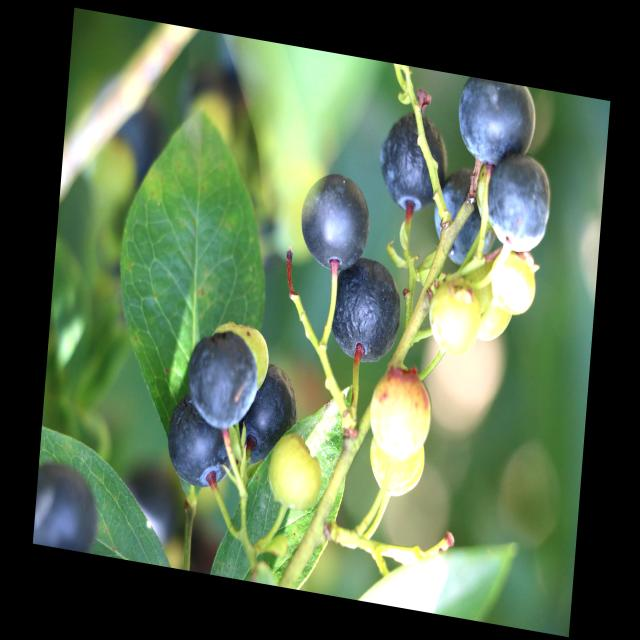blueberry: (322, 249, 404, 371), (296, 166, 377, 280), (481, 143, 557, 260), (451, 74, 544, 169), (375, 105, 451, 218), (186, 326, 258, 438), (158, 392, 236, 492), (431, 162, 501, 272), (238, 357, 298, 474)
blueberry-unripe: (369, 365, 436, 464), (266, 430, 325, 518), (457, 261, 517, 343), (362, 431, 430, 501), (424, 275, 480, 357), (488, 244, 538, 316)
